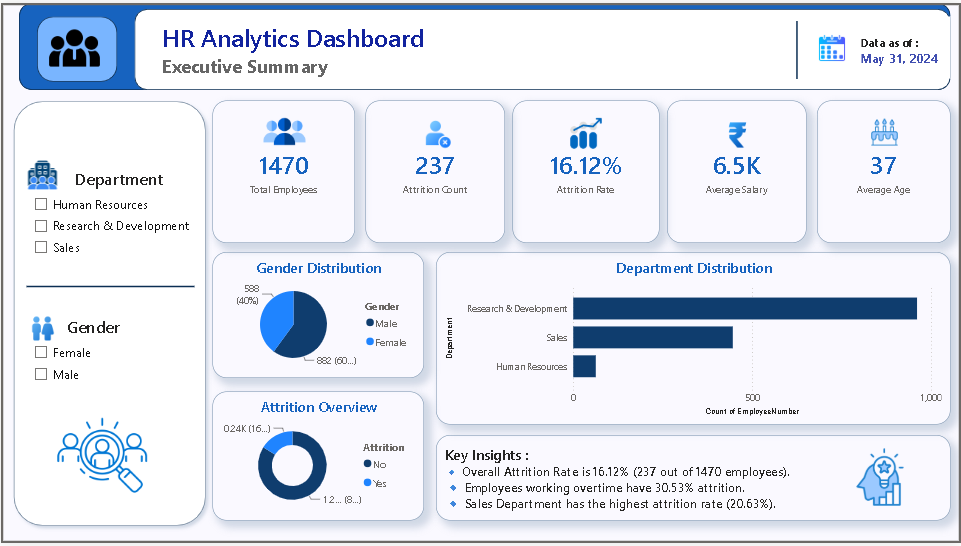

The page's visual inventory and layout, read from the dashboard file:
{"tool":"powerbi","page":{"name":"Executive Summary","canvas":[1280,720],"ordinal":0},"visuals":[{"type":"shape","box":[8,122,274,584],"z":0},{"type":"shape","box":[24,0,1242,116],"z":1000},{"type":"cardVisual","fields":{"Data":["HR_Analytics_Cleaned.Total Employees"]},"box":[282,130,190,190],"z":2000},{"type":"cardVisual","fields":{"Data":["HR_Analytics_Cleaned.Attrition Count"]},"box":[486,130,186,190],"z":3000},{"type":"shape","box":[178,8,1088,108],"z":4000},{"type":"cardVisual","fields":{"Data":["HR_Analytics_Cleaned.Attrition Rate"]},"box":[682,130,196,190],"z":5000},{"type":"cardVisual","fields":{"Data":["HR_Analytics_Cleaned.Average Salary"]},"box":[888,130,186,190],"z":6000},{"type":"cardVisual","fields":{"Data":["HR_Analytics_Cleaned.Average Age"]},"box":[1088,130,178,190],"z":7000},{"type":"donutChart","title":"Attrition Overview","fields":{"Category":["HR_Analytics_Cleaned.Attrition"],"Y":["CountNonNull(HR_Analytics_Cleaned.EmployeeNumber)"]},"box":[282,518,282,172],"z":8000},{"type":"clusteredBarChart","title":"Department Distribution","fields":{"Category":["HR_Analytics_Cleaned.Department"],"Y":["CountNonNull(HR_Analytics_Cleaned.EmployeeNumber)"]},"box":[580,332,686,230],"z":9000},{"type":"pieChart","title":"Gender Distribution","fields":{"Category":["HR_Analytics_Cleaned.Gender"],"Y":["CountNonNull(HR_Analytics_Cleaned.EmployeeNumber)"]},"box":[282,332,282,168],"z":10000},{"type":"slicer","title":"Department","fields":{"Values":["HR_Analytics_Cleaned.Department"]},"box":[31.4,218.6,250,171.4],"z":11000},{"type":"slicer","title":"Gender","fields":{"Values":["HR_Analytics_Cleaned.Gender"]},"box":[32,416,182,116],"z":12000},{"type":"textbox","box":[210,18,852,98],"z":13000},{"type":"shape","box":[48.6,18.6,107.1,87.1],"z":14000},{"type":"image","box":[55.6,23.3,84.4,72.2],"z":15000},{"type":"shape","box":[1022.9,24.3,78.6,77.1],"z":16000},{"type":"textbox","box":[1141.4,18.6,124.3,82.9],"z":17000},{"type":"image","box":[1088,38,40,44],"z":18000},{"type":"shape","box":[34,340,224,76],"z":19000},{"type":"image","box":[24.3,207.1,62.9,42.9],"z":20000},{"type":"image","box":[40,414,32,40],"z":21000},{"type":"image","box":[60,540,150,126],"z":22000},{"type":"textbox","box":[580,576,686,114],"z":23000},{"type":"image","box":[350,102,56,138],"z":24000},{"type":"image","box":[564,108,38,134],"z":25000},{"type":"image","box":[756,144,48,58],"z":26000},{"type":"image","box":[1146,154,64,36],"z":27000},{"type":"image","box":[958,158,48,36],"z":28000},{"type":"image","box":[1128,574,88,116],"z":29000},{"type":"actionButton","box":[0,0,1280,720],"z":29001}]}

Visuals, with their boxes in screenshot pixels (x1, y1, x2, y2), scaled from the page's 1280x720 canvas onto the 961x546 screenshot:
shape: box(6, 93, 212, 535)
shape: box(18, 0, 950, 88)
cardVisual - HR_Analytics_Cleaned.Total Employees: box(212, 99, 354, 243)
cardVisual - HR_Analytics_Cleaned.Attrition Count: box(365, 99, 505, 243)
shape: box(134, 6, 950, 88)
cardVisual - HR_Analytics_Cleaned.Attrition Rate: box(512, 99, 659, 243)
cardVisual - HR_Analytics_Cleaned.Average Salary: box(667, 99, 806, 243)
cardVisual - HR_Analytics_Cleaned.Average Age: box(817, 99, 950, 243)
"Attrition Overview" donutChart: box(212, 393, 423, 523)
"Department Distribution" clusteredBarChart: box(435, 252, 950, 426)
"Gender Distribution" pieChart: box(212, 252, 423, 379)
"Department" slicer: box(24, 166, 211, 296)
"Gender" slicer: box(24, 315, 161, 403)
textbox: box(158, 14, 797, 88)
shape: box(36, 14, 117, 80)
image: box(42, 18, 105, 72)
shape: box(768, 18, 827, 77)
textbox: box(857, 14, 950, 77)
image: box(817, 29, 847, 62)
shape: box(26, 258, 194, 315)
image: box(18, 157, 65, 190)
image: box(30, 314, 54, 344)
image: box(45, 410, 158, 505)
textbox: box(435, 437, 950, 523)
image: box(263, 77, 305, 182)
image: box(423, 82, 452, 184)
image: box(568, 109, 604, 153)
image: box(860, 117, 908, 144)
image: box(719, 120, 755, 147)
image: box(847, 435, 913, 523)
actionButton: box(0, 0, 960, 545)
